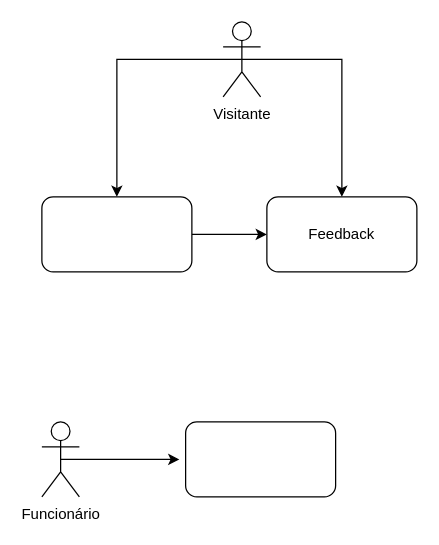
This 439x545 diagram has some shape labels left out. Each missing label, with the centre of its shape:
"banco de dados" belongs at [260,459].
"quiz" belongs at [116,234].
